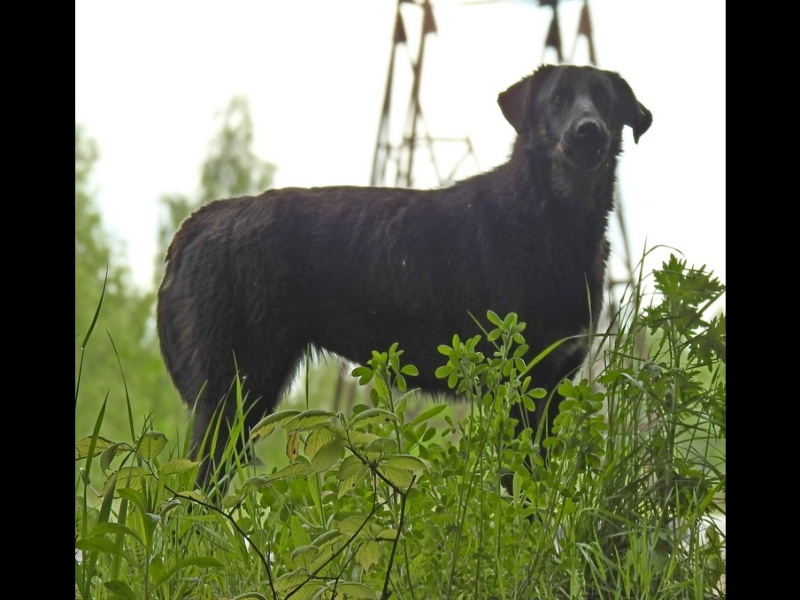dog: (149, 62, 653, 535)
